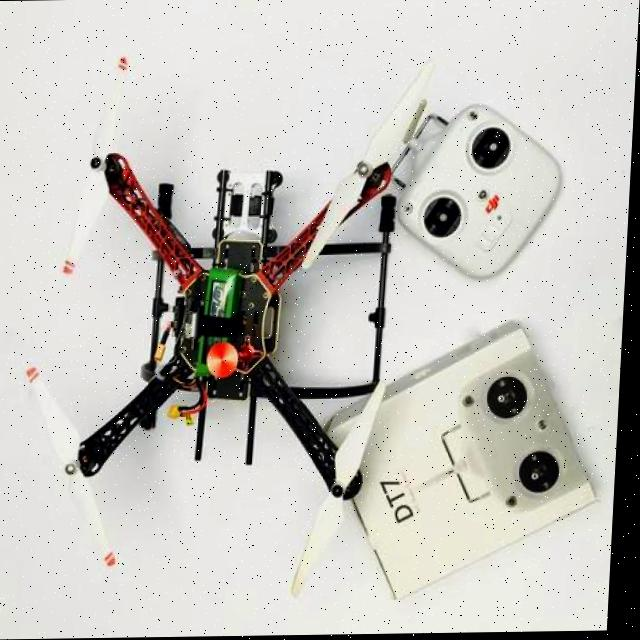drone: (11, 19, 467, 615)
